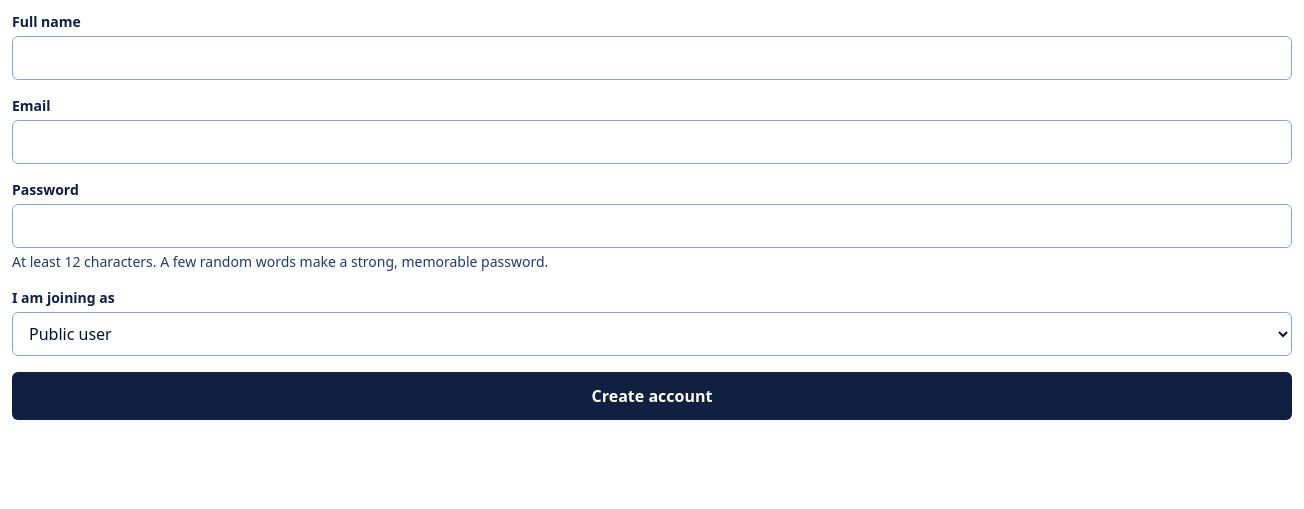
Test: RegisterForm › validates on the client first: no request, accessible errors tied to the fields
The width and height of the screenshot is (1304, 509).
Type "not-an-email" into the field labelled "Email". click: (652, 142)
box: [12, 120, 1292, 164]
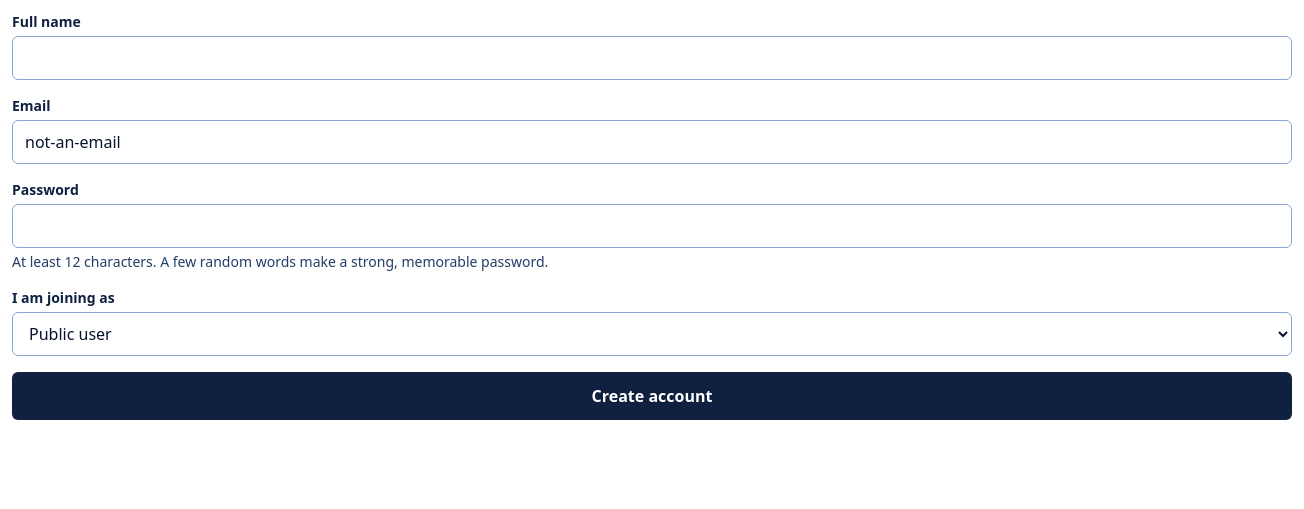
Type "short" into the password field labelled "Password". click: (652, 226)
box: [12, 204, 1292, 248]
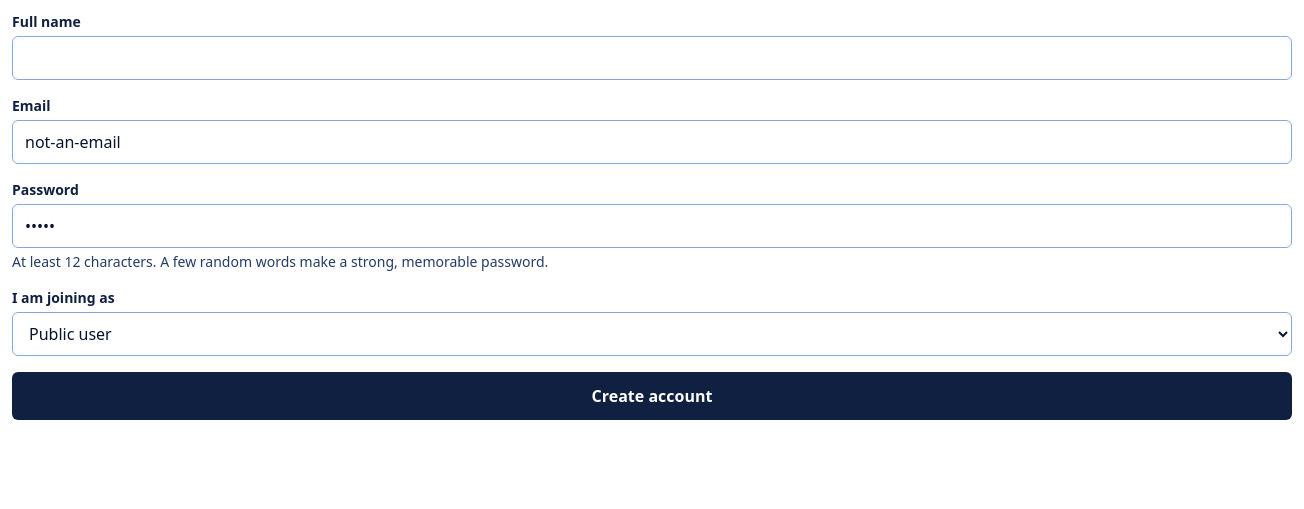
Click the button "Create account". click: (652, 396)
box: [12, 372, 1292, 420]
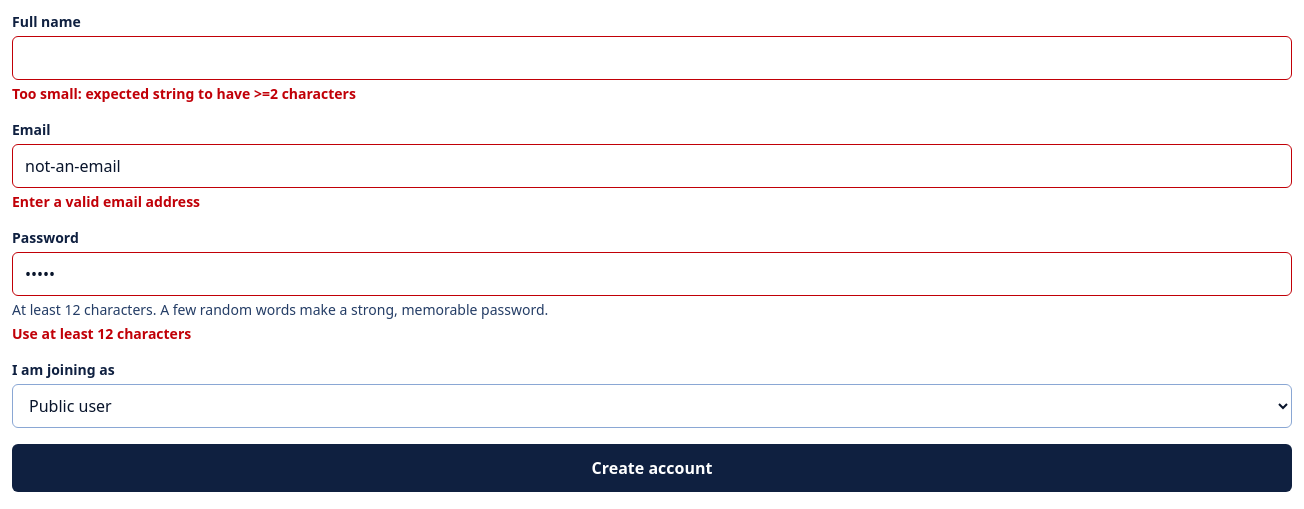
Expected: the text "Use at least 12 characters" is shown, [12, 324, 191, 343]
